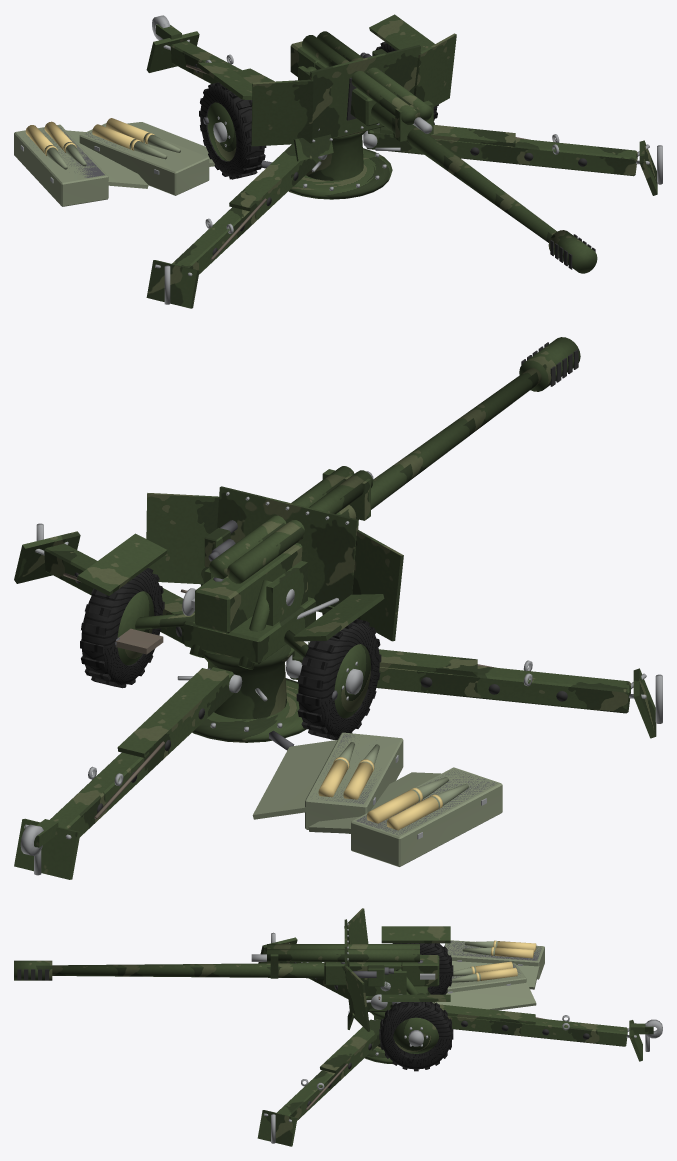
3 views of the same model, one above another, from view 1: azimuth 30°, elevation 25°; view 2: azimuth 150°, elevation 25°; view 3: azimuth 270°, elevation 25° (orthographic). The views are drawn at different scales.
Visible parts, largest first — view 1: D30_base_geo, launcher_yaw_geo, barrel_geo, launcher_pitch_geo; view 2: D30_base_geo, launcher_yaw_geo, barrel_geo, launcher_pitch_geo; view 3: D30_base_geo, launcher_yaw_geo, barrel_geo, launcher_pitch_geo.
Boxes of the visible parts, <box> form: D30_base_geo: <box>14,15,662,308</box>; launcher_yaw_geo: <box>196,14,456,179</box>; barrel_geo: <box>290,41,597,273</box>; launcher_pitch_geo: <box>302,31,433,141</box>; D30_base_geo: <box>14,523,662,879</box>; launcher_yaw_geo: <box>77,486,403,739</box>; barrel_geo: <box>191,337,580,633</box>; launcher_pitch_geo: <box>189,466,372,669</box>; D30_base_geo: <box>257,932,662,1146</box>; launcher_yaw_geo: <box>344,908,453,1071</box>; barrel_geo: <box>14,954,439,986</box>; launcher_pitch_geo: <box>267,944,430,994</box>.
Size of the model in its own units: 5.81 by 1.65 by 8.47.
Materials: 8 (2 with a texture image).
